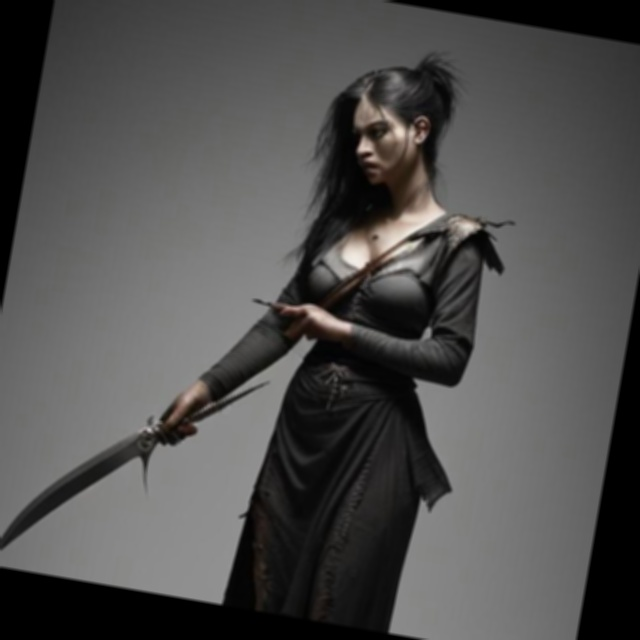Sharp-Object: (0, 334, 273, 600)
